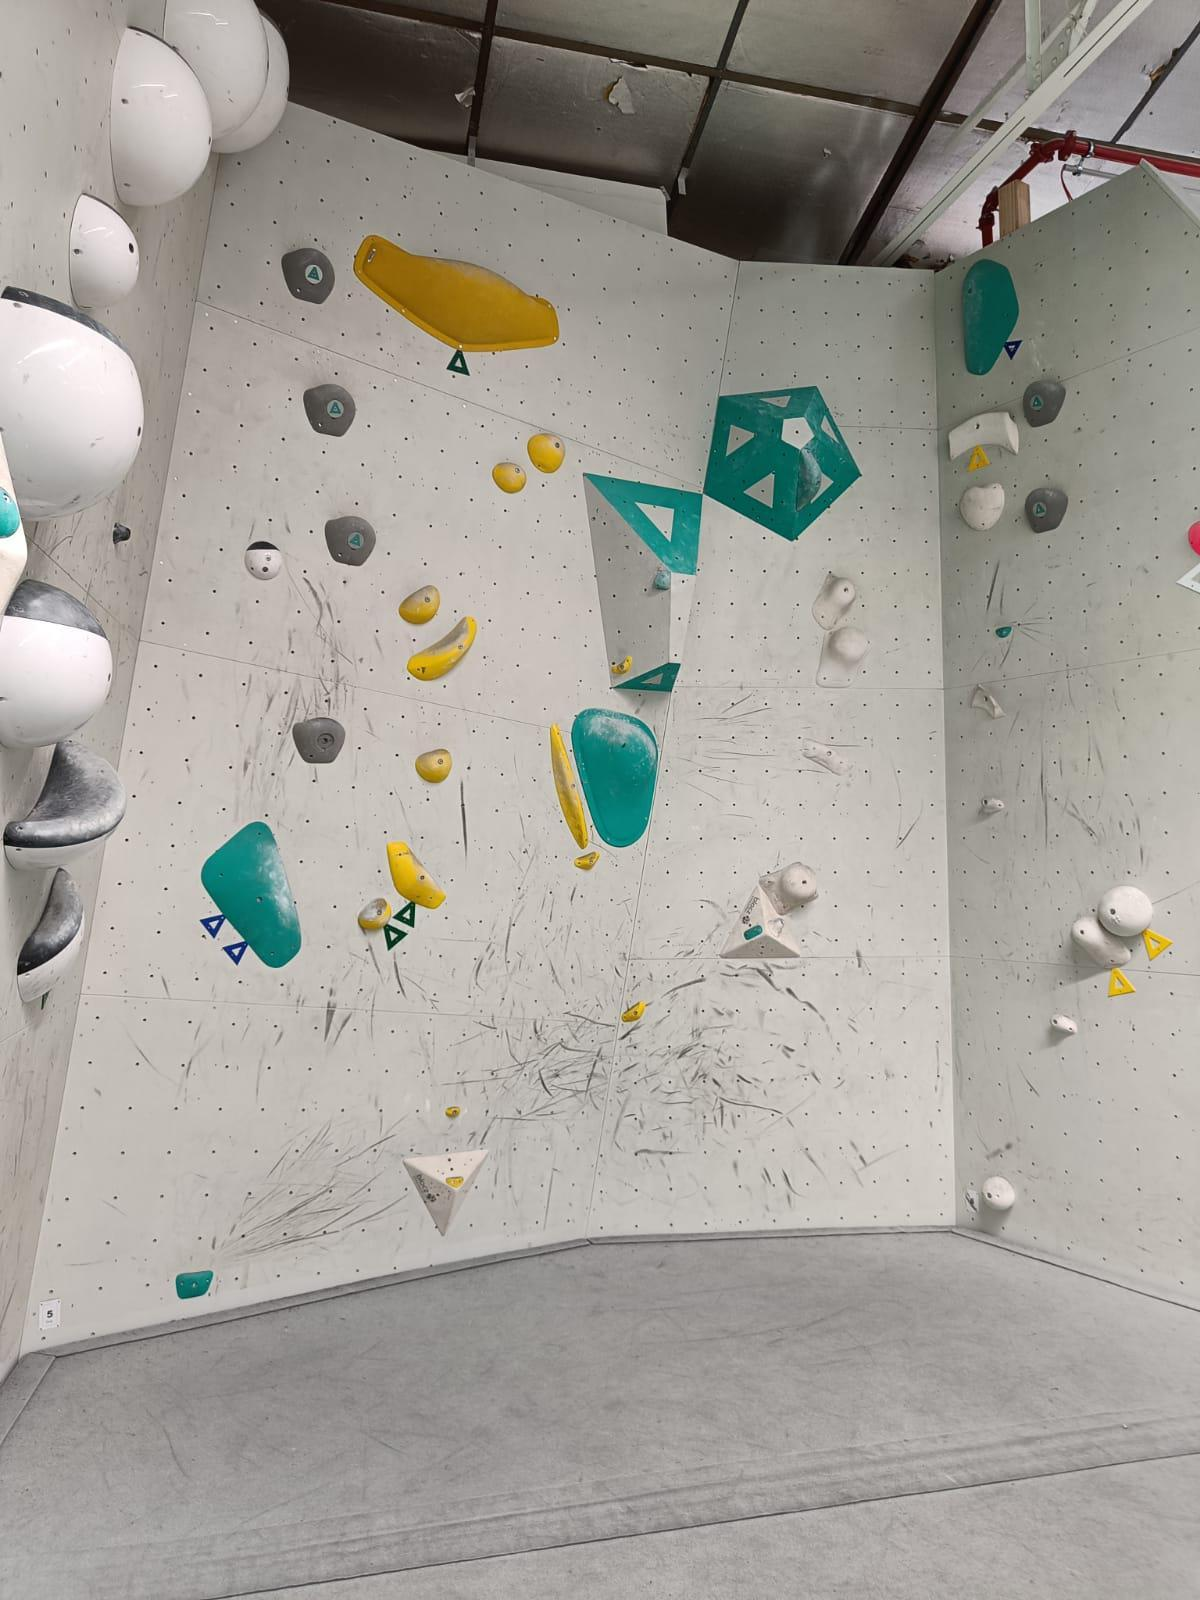hold: (0, 285, 145, 522), (354, 234, 560, 351), (0, 580, 112, 750), (111, 25, 212, 207), (4, 737, 127, 872), (202, 820, 301, 969), (164, 0, 268, 140), (571, 708, 658, 848), (212, 6, 290, 152), (16, 868, 84, 1003), (69, 193, 140, 310), (959, 260, 1018, 375), (551, 723, 589, 849), (407, 616, 478, 680), (387, 840, 445, 910), (948, 412, 1020, 461), (1070, 915, 1131, 969), (758, 862, 818, 916), (816, 626, 867, 688), (281, 247, 335, 304), (1098, 884, 1153, 937), (303, 384, 355, 437), (324, 515, 376, 566), (811, 573, 856, 630), (292, 717, 345, 763), (959, 481, 1005, 530), (1025, 488, 1068, 534), (1024, 379, 1065, 427), (802, 737, 848, 776), (398, 585, 440, 625), (797, 449, 822, 511), (245, 540, 282, 580), (528, 433, 565, 472), (969, 683, 1008, 719), (416, 748, 453, 784), (175, 1270, 214, 1300), (982, 1175, 1015, 1211), (492, 462, 527, 494), (358, 898, 392, 930), (0, 486, 20, 538), (1049, 1014, 1079, 1034), (621, 1000, 647, 1022), (574, 850, 600, 871), (981, 796, 1006, 815), (1187, 520, 1200, 557), (611, 655, 633, 674), (113, 523, 131, 544), (766, 918, 784, 937), (655, 571, 672, 591), (744, 925, 763, 940), (444, 1106, 461, 1117), (995, 626, 1012, 637), (445, 1177, 464, 1187)
volume: (582, 472, 703, 692), (703, 386, 861, 542), (402, 1150, 489, 1236), (720, 884, 800, 959), (0, 426, 28, 621)
